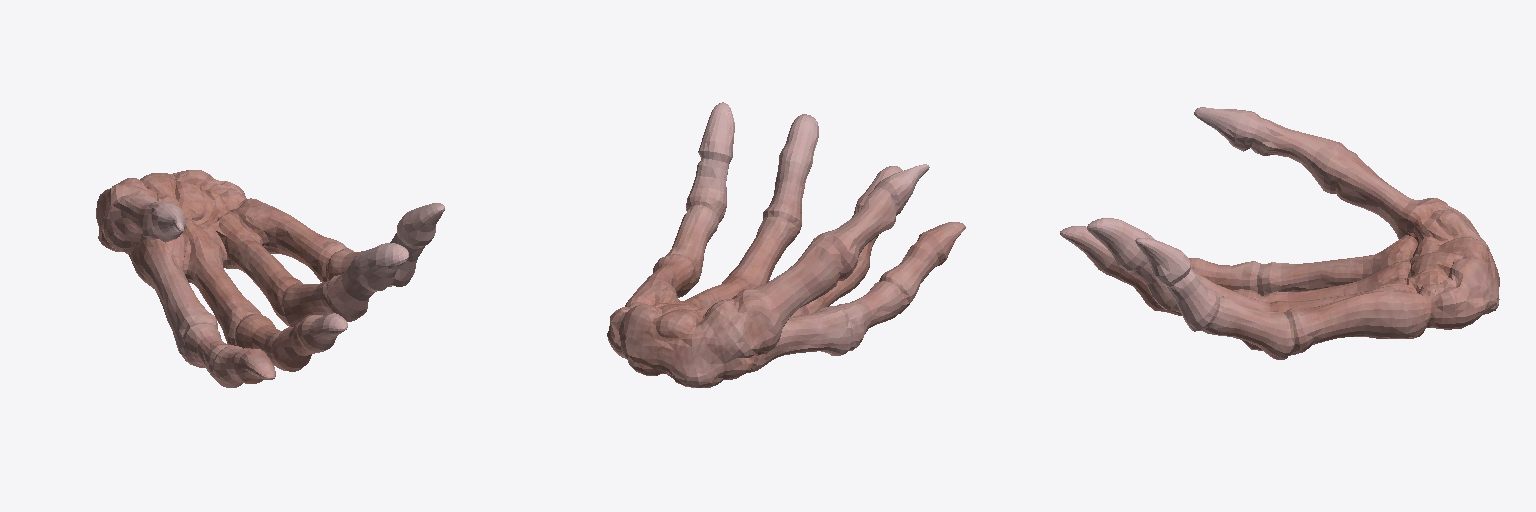
3 renders of one model, left to right at view 1: azimuth 30°, elevation 25°; view 2: azimuth 150°, elevation 25°; view 3: azimuth 270°, elevation 25°, orthographic.
Visible parts, largest first — view 1: right_hand; view 2: right_hand; view 3: right_hand.
Part boxes in pixels (x1,y1,x2,y2): right_hand: (96, 170, 444, 387); right_hand: (607, 102, 965, 387); right_hand: (1060, 107, 1499, 359).
Size of the model in its own units: 0.8353 by 0.6035 by 1.31.
Materials: 1 (1 with a texture image).